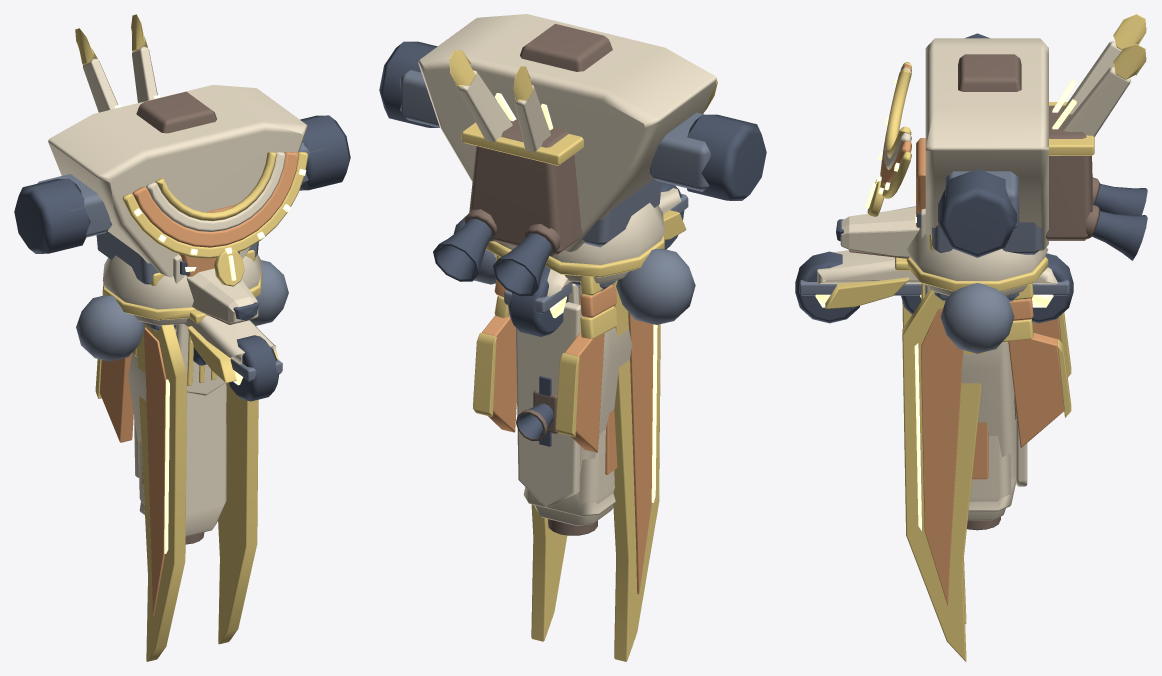
The model's file is anubis.glb.
3 renders of one model, left to right at view 1: azimuth 30°, elevation 25°; view 2: azimuth 150°, elevation 25°; view 3: azimuth 270°, elevation 25°, orthographic. The views are drawn at different scales.
Visible parts, largest first — view 1: chest/chest/P, elR/armR/T, elL/armL/T, chest/chest/D, hipL/thighs/P, chest/chest/T, hips/hips/K, elR/armR/S, chest/chest/S, shR/shoulders/P, chest/chest/K, head/head/P (+13 smaller); view 2: chest/chest/P, chest/backpack/F, hipL/thighs/P, elR/armR/T, chest/chest/D, chest/chest/K, hips/hips/K, chest/backpack/D, elR/armR/S, shR/shoulders/P, elL/armL/T, kneeL/shins/P (+19 smaller); view 3: chest/chest/P, elL/armL/T, elL/armL/S, chest/chest/D, chest/backpack/F, kneeL/shins/S, kneeL/shins/P, hips/hips/K, shL/shoulders/P, ankleL/feet/D, head/head/P, chest/backpack/D (+18 smaller).
Part boxes in pixels (x1=…): chest/chest/P: x1=48, y1=85, x2=307, y2=277; elR/armR/T: x1=136, y1=323, x2=186, y2=661; elL/armL/T: x1=218, y1=383, x2=258, y2=644; chest/chest/D: x1=14, y1=115, x2=350, y2=253; hipL/thighs/P: x1=134, y1=329, x2=226, y2=536; chest/chest/T: x1=122, y1=152, x2=307, y2=286; hips/hips/K: x1=76, y1=260, x2=288, y2=361; elR/armR/S: x1=143, y1=327, x2=166, y2=615; chest/chest/S: x1=132, y1=152, x2=298, y2=276; shR/shoulders/P: x1=102, y1=255, x2=193, y2=325; chest/chest/K: x1=37, y1=142, x2=325, y2=284; head/head/P: x1=173, y1=251, x2=258, y2=322; chest/chest/P: x1=418, y1=14, x2=716, y2=251; chest/backpack/F: x1=464, y1=117, x2=582, y2=256; hipL/thighs/P: x1=515, y1=302, x2=614, y2=525; elR/armR/T: x1=612, y1=280, x2=660, y2=661; chest/chest/D: x1=379, y1=41, x2=766, y2=200; chest/chest/K: x1=399, y1=70, x2=710, y2=247; hips/hips/K: x1=453, y1=214, x2=695, y2=324; chest/backpack/D: x1=433, y1=219, x2=552, y2=296; elR/armR/S: x1=628, y1=312, x2=653, y2=594; shR/shoulders/P: x1=550, y1=203, x2=664, y2=283; elL/armL/T: x1=531, y1=504, x2=567, y2=641; kneeL/shins/P: x1=523, y1=287, x2=632, y2=516; chest/chest/P: x1=884, y1=38, x2=1048, y2=250; elL/armL/T: x1=902, y1=289, x2=984, y2=661; elL/armL/S: x1=921, y1=308, x2=963, y2=605; chest/chest/D: x1=938, y1=33, x2=1016, y2=257; chest/backpack/F: x1=1046, y1=105, x2=1100, y2=240; kneeL/shins/S: x1=1008, y1=333, x2=1064, y2=447; kneeL/shins/P: x1=960, y1=342, x2=1016, y2=511; hips/hips/K: x1=934, y1=283, x2=1019, y2=353; shL/shoulders/P: x1=907, y1=228, x2=1048, y2=295; ankleL/feet/D: x1=795, y1=251, x2=1073, y2=323; head/head/P: x1=840, y1=206, x2=925, y2=257; chest/backpack/D: x1=1092, y1=184, x2=1147, y2=260.
Bounding box in the file's own units: 3.08 × 5.48 × 2.86.
